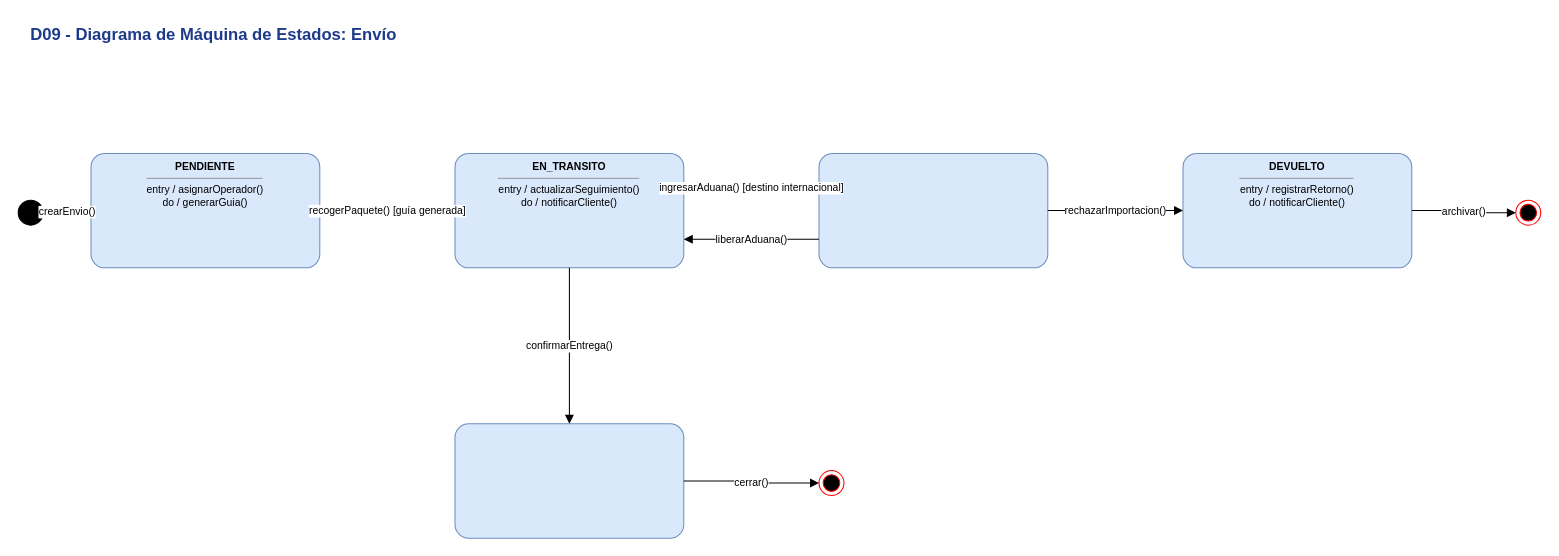
The diagram is 1559 pixels wide and 556 high, and some of its shapes have lost their labels. Here are the shapes that lost their labels. From the top down, the box of each, then its label:
(818, 152, 1048, 268): EN_ADUANA entry / registrarDocumentos() do / esperarLiberacion()
(454, 423, 684, 538): ENTREGADO entry / confirmarEntrega() do / cerrarEnvio()
